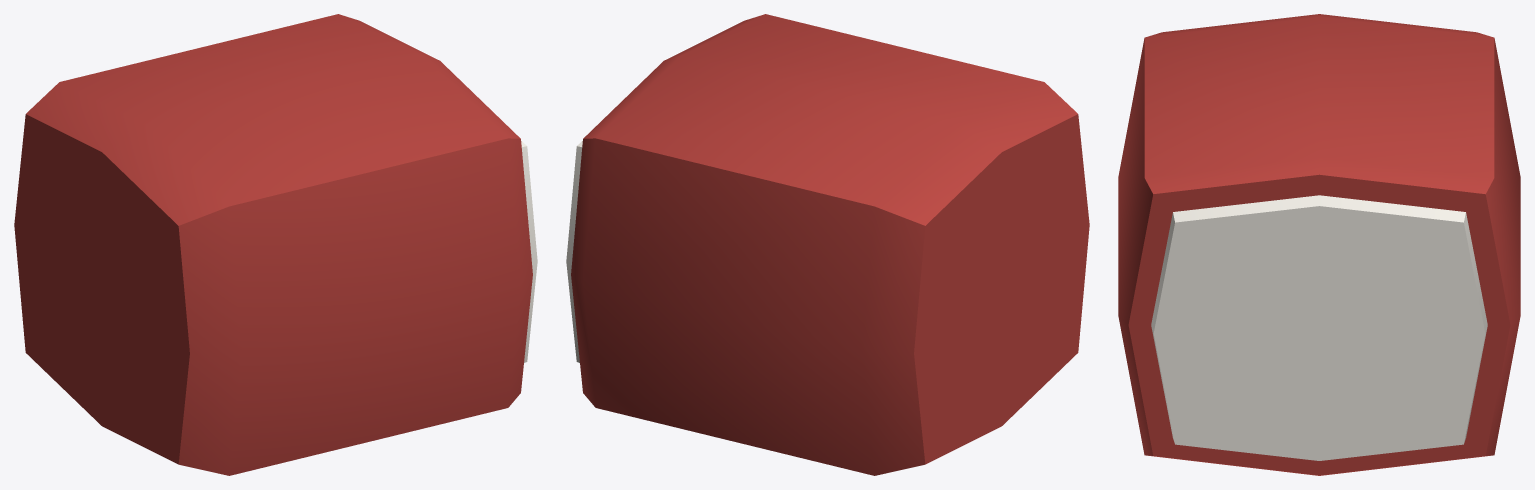
The model's file is cell_lod2.glb.
3 renders of one model, left to right at view 1: azimuth 30°, elevation 25°; view 2: azimuth 150°, elevation 25°; view 3: azimuth 270°, elevation 25°, orthographic. The views are drawn at different scales.
Visible parts, largest first — view 1: cell_lod2; view 2: cell_lod2; view 3: cell_lod2.
Part boxes in pixels (left/top/right/bottom): cell_lod2: left=14, top=14, right=537, bottom=475; cell_lod2: left=566, top=14, right=1089, bottom=475; cell_lod2: left=1118, top=14, right=1520, bottom=475.
Bounding box in the file's own units: 0.084 × 0.07 × 0.08.
